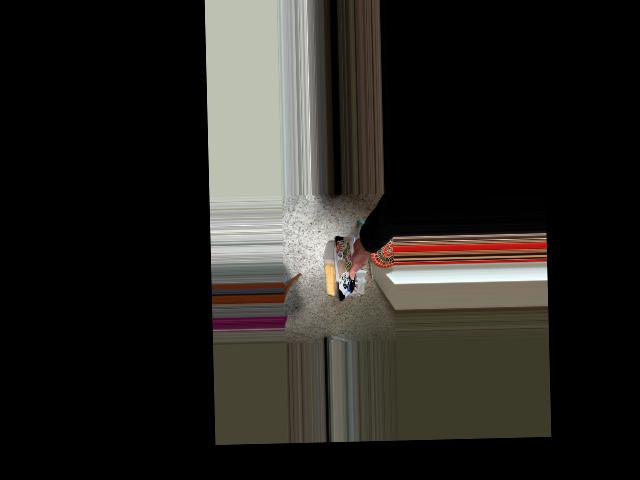cheese: (306, 227, 372, 304)
